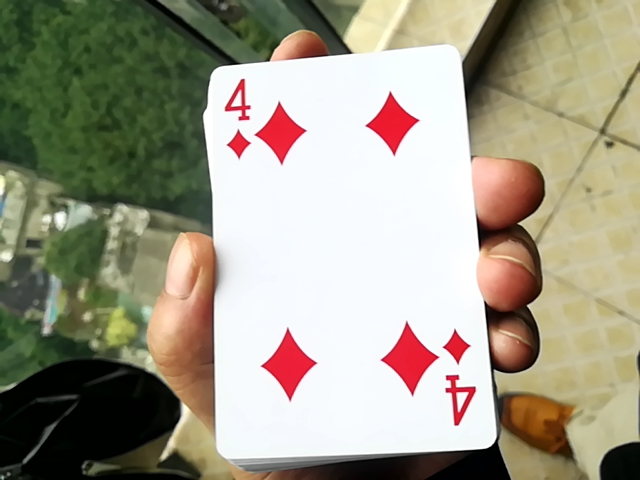fk 4: (196, 29, 490, 462)
